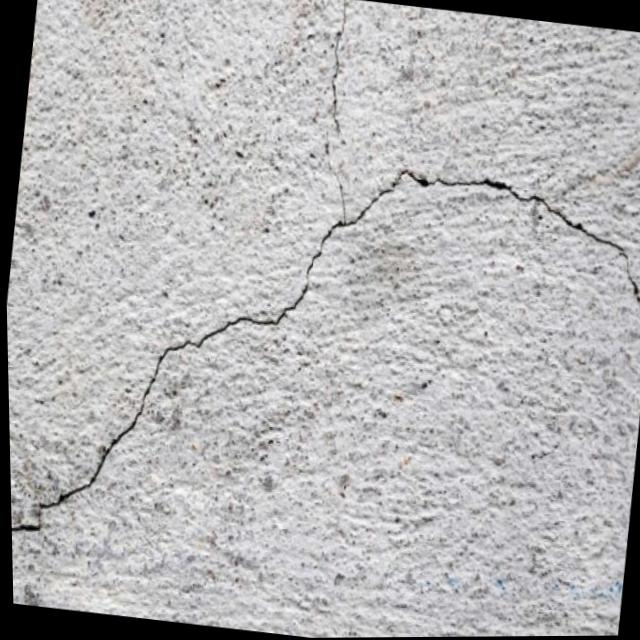Crack: (2, 114, 640, 628), (308, 0, 369, 139)
